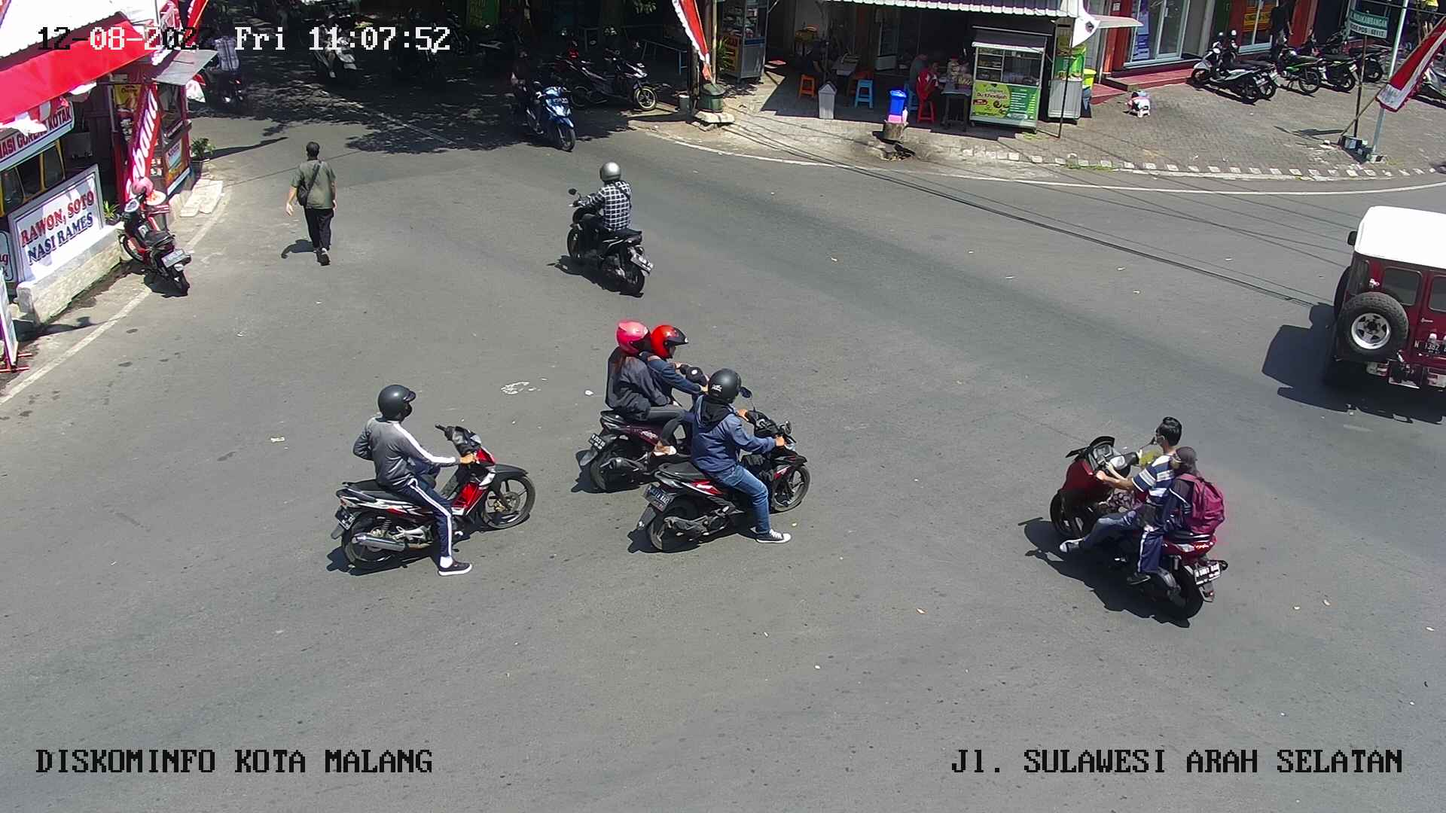with_helmet: (324, 382, 539, 577), (628, 362, 810, 566), (578, 314, 700, 480), (558, 158, 656, 296)
without_helmet: (1047, 404, 1231, 625)
